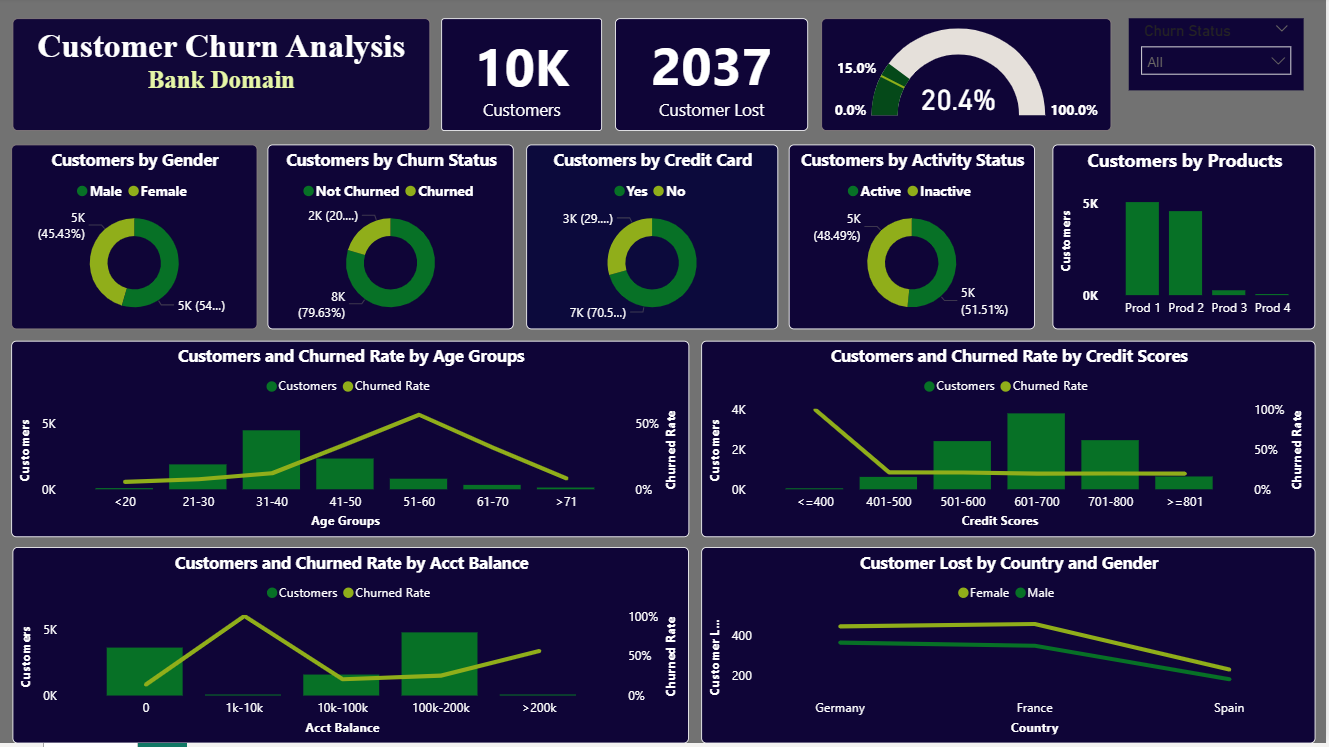

What the dashboard file says about the page in this screenshot:
{"tool":"powerbi","page":{"name":"Page 1","canvas":[1280,720],"ordinal":0},"visuals":[{"type":"card","fields":{"Values":["Customer Churn Analysis.Customers"]},"box":[425.4,20.6,155.1,108.4],"z":0},{"type":"card","fields":{"Values":["Customer Churn Analysis.Customer Lost"]},"box":[594.2,20.6,186.6,108.4],"z":1000},{"type":"donutChart","fields":{"Category":["Customer Churn Analysis.Gender"],"Y":["Customer Churn Analysis.Customers"]},"box":[11,142.7,237.4,178.4],"z":2000},{"type":"donutChart","fields":{"Y":["Customer Churn Analysis.Customers"],"Category":["Customer Churn Analysis.Activity Status"]},"box":[761.6,142.7,237.4,178.4],"z":3000},{"type":"donutChart","title":"Customers by Credit Card ","fields":{"Y":["Customer Churn Analysis.Customers"],"Category":["Customer Churn Analysis.Credit Card Status"]},"box":[507.7,142.7,242.9,178.4],"z":4000},{"type":"donutChart","fields":{"Y":["Customer Churn Analysis.Customers"],"Category":["Customer Churn Analysis.Churn Status"]},"box":[258,142.7,237.4,178.4],"z":5000},{"type":"columnChart","fields":{"Y":["Customer Churn Analysis.Customers"],"Category":["Customer Churn Analysis.Products"]},"box":[1015.4,142.7,253.9,178.4],"z":6000},{"type":"lineStackedColumnComboChart","fields":{"Category":["Age Groups.Age Groups"],"Y":["Customer Churn Analysis.Customers"],"Y2":["Customer Churn Analysis.Churned Rate"]},"box":[11,332.1,654.5,189.4],"z":7000},{"type":"lineStackedColumnComboChart","fields":{"Category":["Credit Scores Groups.Credit Scores"],"Y":["Customer Churn Analysis.Customers"],"Y2":["Customer Churn Analysis.Churned Rate"]},"box":[676.5,332.1,592.8,189.4],"z":8000},{"type":"lineStackedColumnComboChart","fields":{"Category":["Acct Balance Groups.Acct Balance"],"Y":["Customer Churn Analysis.Customers"],"Y2":["Customer Churn Analysis.Churned Rate"]},"box":[12.3,531,653.2,189.4],"z":9000},{"type":"lineChart","fields":{"Category":["Customer Churn Analysis.Country"],"Series":["Customer Churn Analysis.Gender"],"Y":["Customer Churn Analysis.Customer Lost"]},"box":[676.5,531,592.8,189.4],"z":10000},{"type":"slicer","fields":{"Values":["Customer Churn Analysis.Churn Status"]},"box":[1089.5,20.6,168.8,70],"z":11000},{"type":"gauge","fields":{"Y":["Customer Churn Analysis.Churned Rate"],"MinValue":["Min(Customer Churn Analysis.Min Churned Rate)"],"MaxValue":["Max(Customer Churn Analysis.Max Churned rate)"],"TargetValue":["Min(Customer Churn Analysis.Target Churned Rate)"]},"box":[793.1,20.6,279.9,108.4],"z":12000},{"type":"textbox","box":[12.3,20.6,403.4,108.4],"z":13001}]}

Visuals, with their boxes in screenshot pixels (x1, y1, x2, y2), scaled from the page's 1280x720 canvas onto the 1329x747 screenshot:
card - Customer Churn Analysis.Customers: {"left": 442, "top": 21, "right": 603, "bottom": 134}
card - Customer Churn Analysis.Customer Lost: {"left": 617, "top": 21, "right": 811, "bottom": 134}
donutChart - Customer Churn Analysis.Gender x Customer Churn Analysis.Customers: {"left": 11, "top": 148, "right": 258, "bottom": 333}
donutChart - Customer Churn Analysis.Customers x Customer Churn Analysis.Activity Status: {"left": 791, "top": 148, "right": 1037, "bottom": 333}
"Customers by Credit Card " donutChart: {"left": 527, "top": 148, "right": 779, "bottom": 333}
donutChart - Customer Churn Analysis.Customers x Customer Churn Analysis.Churn Status: {"left": 268, "top": 148, "right": 514, "bottom": 333}
columnChart - Customer Churn Analysis.Customers x Customer Churn Analysis.Products: {"left": 1054, "top": 148, "right": 1318, "bottom": 333}
lineStackedColumnComboChart - Age Groups.Age Groups x Customer Churn Analysis.Customers: {"left": 11, "top": 345, "right": 691, "bottom": 541}
lineStackedColumnComboChart - Credit Scores Groups.Credit Scores x Customer Churn Analysis.Customers: {"left": 702, "top": 345, "right": 1318, "bottom": 541}
lineStackedColumnComboChart - Acct Balance Groups.Acct Balance x Customer Churn Analysis.Customers: {"left": 13, "top": 551, "right": 691, "bottom": 746}
lineChart - Customer Churn Analysis.Country x Customer Churn Analysis.Gender: {"left": 702, "top": 551, "right": 1318, "bottom": 746}
slicer - Customer Churn Analysis.Churn Status: {"left": 1131, "top": 21, "right": 1306, "bottom": 94}
gauge - Customer Churn Analysis.Churned Rate x Min(Customer Churn Analysis.Min Churned Rate): {"left": 823, "top": 21, "right": 1114, "bottom": 134}
textbox: {"left": 13, "top": 21, "right": 432, "bottom": 134}
